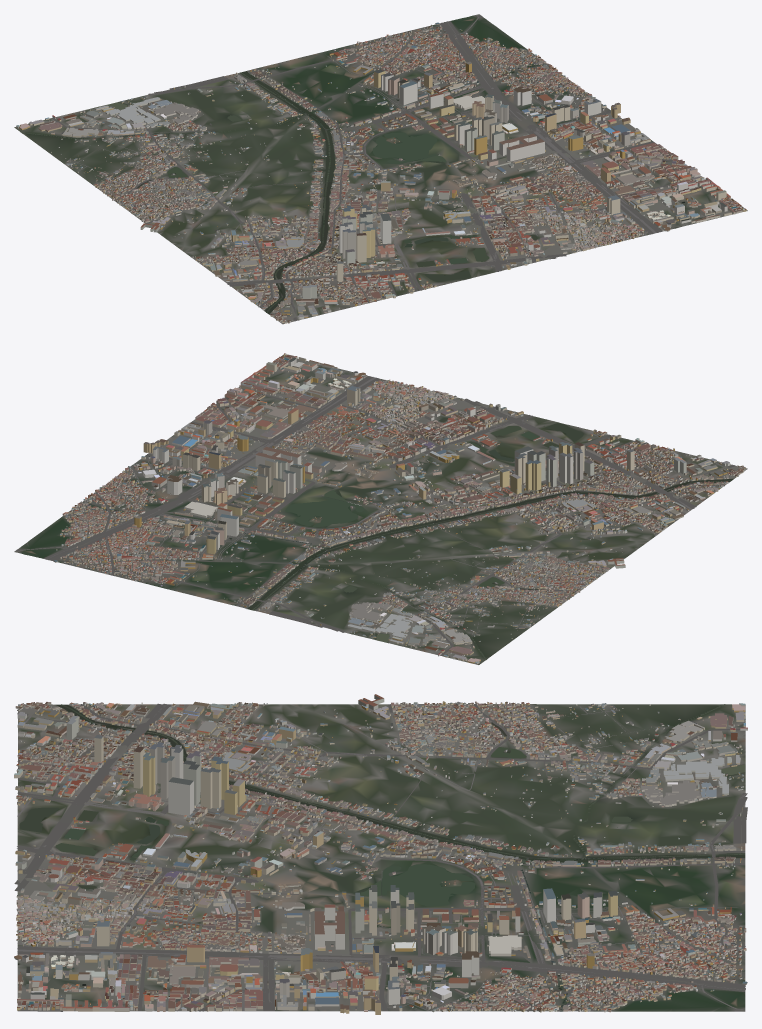
The picture shows the model from 3 angles, top to bottom: view 1: azimuth 30°, elevation 25°; view 2: azimuth 150°, elevation 25°; view 3: azimuth 270°, elevation 25°; orthographic projection. The views are drawn at different scales.
Visible parts, largest first — view 1: buildings, ground, roads, water; view 2: buildings, ground, roads, water; view 3: buildings, ground, roads, water.
Boxes of the visible parts, x1,y1,x2,y2 form: buildings: (16, 22, 746, 323); ground: (14, 14, 747, 324); roads: (51, 15, 747, 321); water: (21, 65, 684, 313); buildings: (53, 353, 745, 664); ground: (14, 355, 747, 664); roads: (16, 355, 735, 655); water: (89, 372, 733, 659); buildings: (14, 694, 747, 1014); ground: (17, 704, 745, 1011); roads: (14, 703, 747, 1011); water: (18, 704, 745, 1011).
Size of the model in its own units: 2891 by 162 by 2828.
